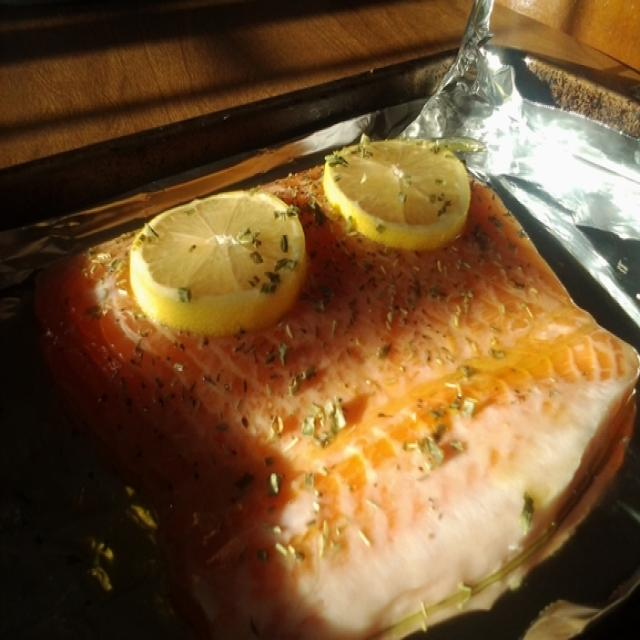熟制海鲜: (10, 21, 626, 631)
